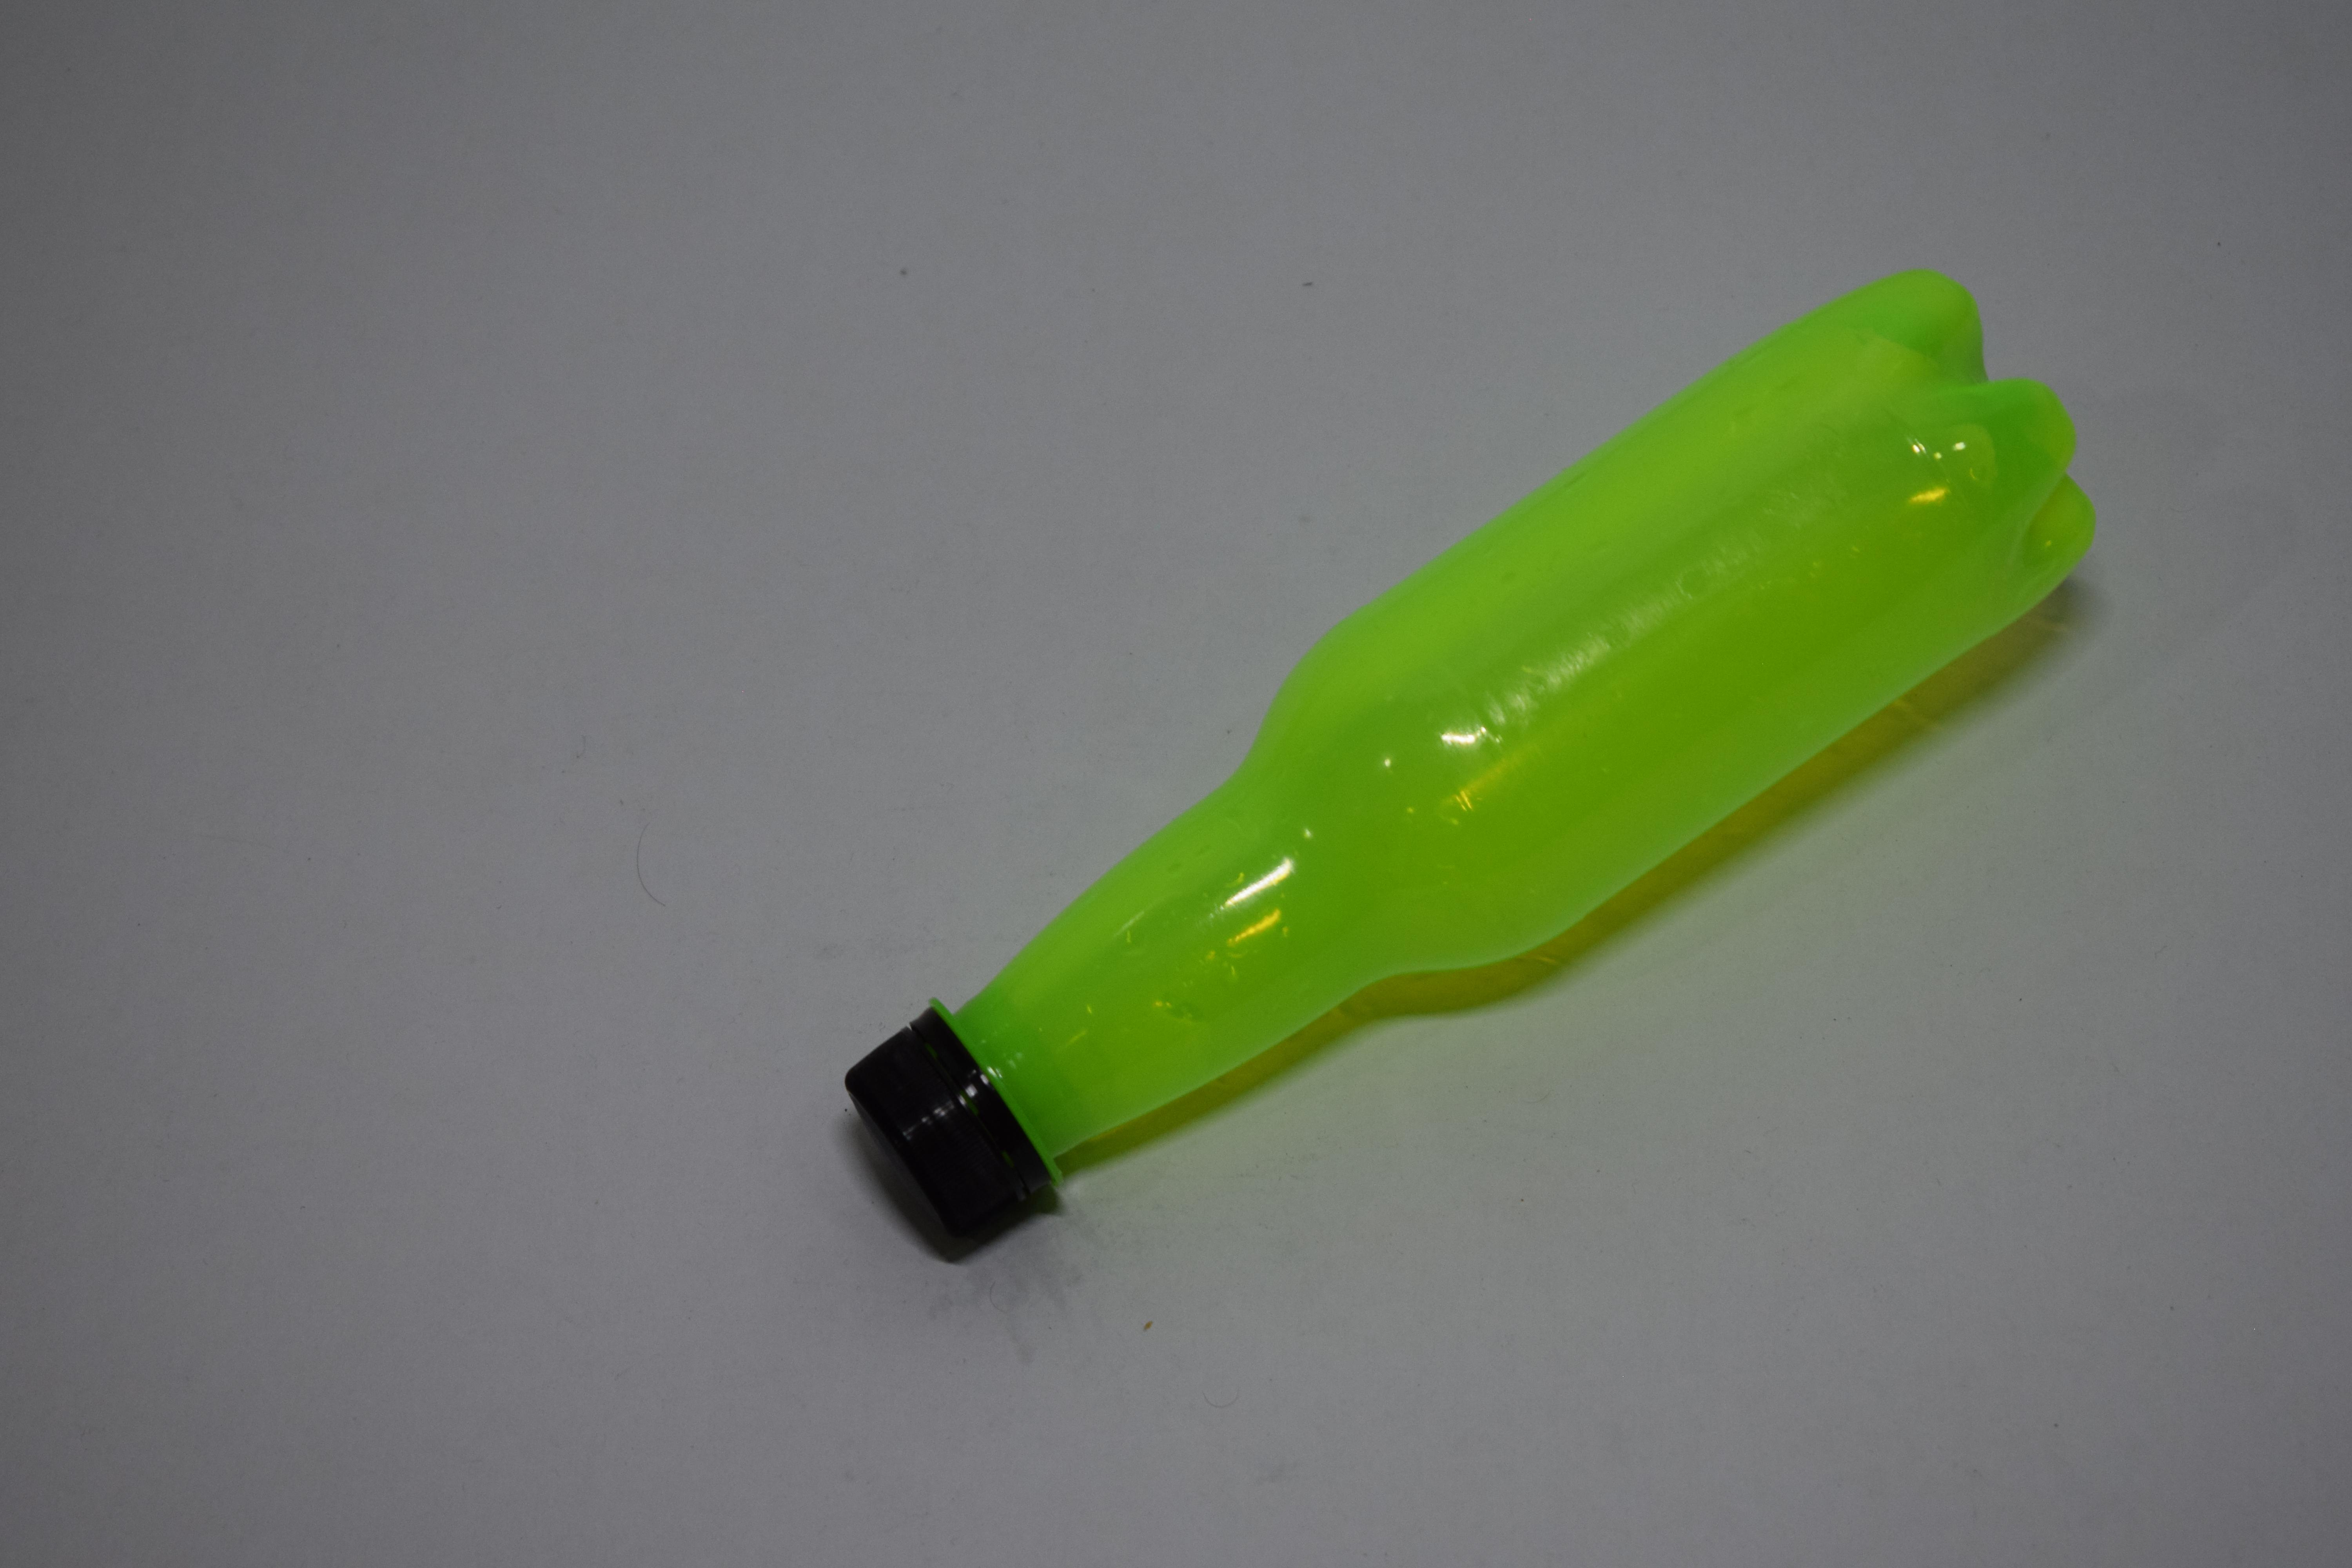bottle: (1431, 254, 1517, 1258)
